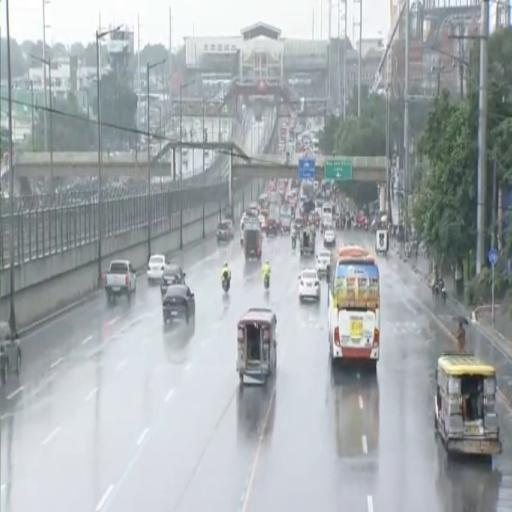bus: (328, 246, 380, 366)
car: (162, 284, 195, 324), (161, 265, 185, 296), (299, 269, 320, 301), (147, 254, 169, 283), (316, 250, 331, 276), (217, 220, 233, 243), (324, 230, 336, 247), (266, 219, 278, 235), (259, 215, 266, 229)
jeepney: (435, 352, 501, 455), (237, 308, 276, 383)
motorcycle: (222, 278, 230, 293), (432, 283, 439, 298), (441, 285, 446, 303), (264, 275, 269, 290), (292, 237, 296, 249)
truck: (104, 261, 136, 302), (280, 204, 292, 233)
